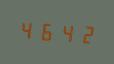four: (18, 17, 36, 42), (56, 20, 74, 45)
six: (37, 18, 55, 43)
two: (75, 21, 93, 46)
